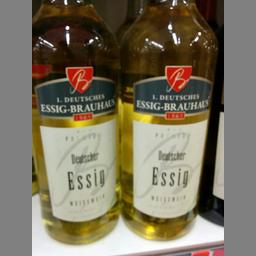vinegar: (120, 0, 217, 246), (32, 0, 123, 243)
